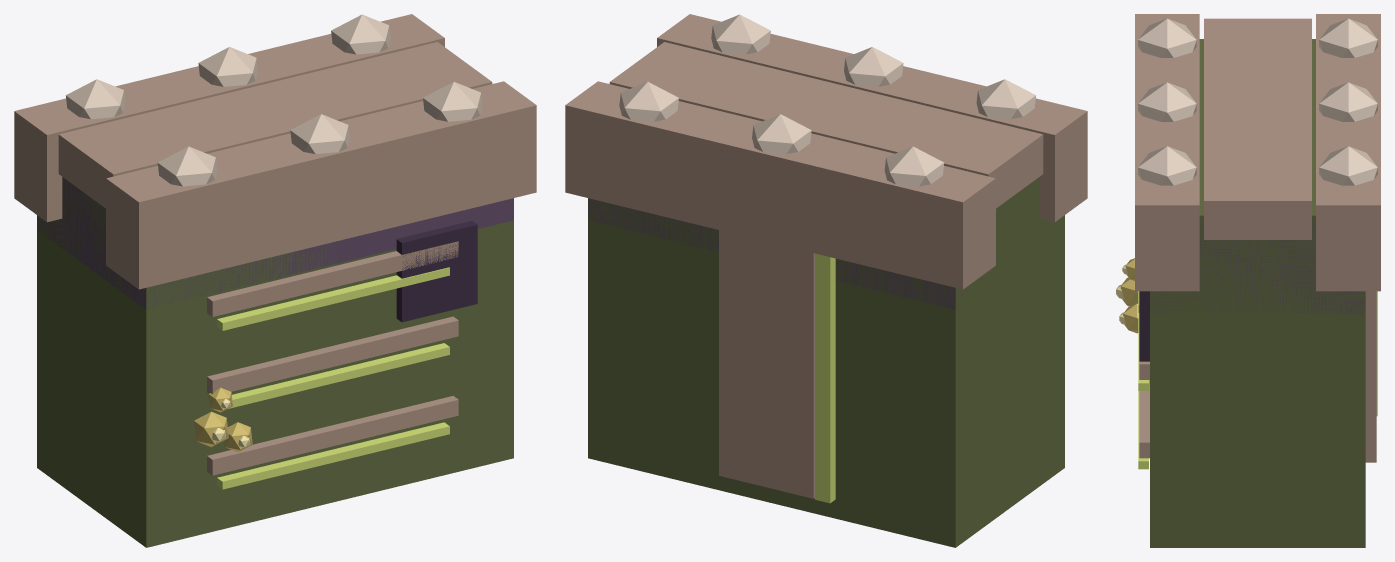
The model's file is inf_warden_upper_torso.fbx.
3 renders of one model, left to right at view 1: azimuth 30°, elevation 25°; view 2: azimuth 150°, elevation 25°; view 3: azimuth 270°, elevation 25°, orthographic.
Parts seen in each view (by area): view 1: inf_warden_upper_torso; view 2: inf_warden_upper_torso; view 3: inf_warden_upper_torso.
Part boxes in pixels (x1,y1,x2,y2): inf_warden_upper_torso: (14, 14, 536, 547); inf_warden_upper_torso: (565, 14, 1087, 547); inf_warden_upper_torso: (1116, 14, 1380, 547).
Bounding box in the file's own units: 210 × 193 × 123.
